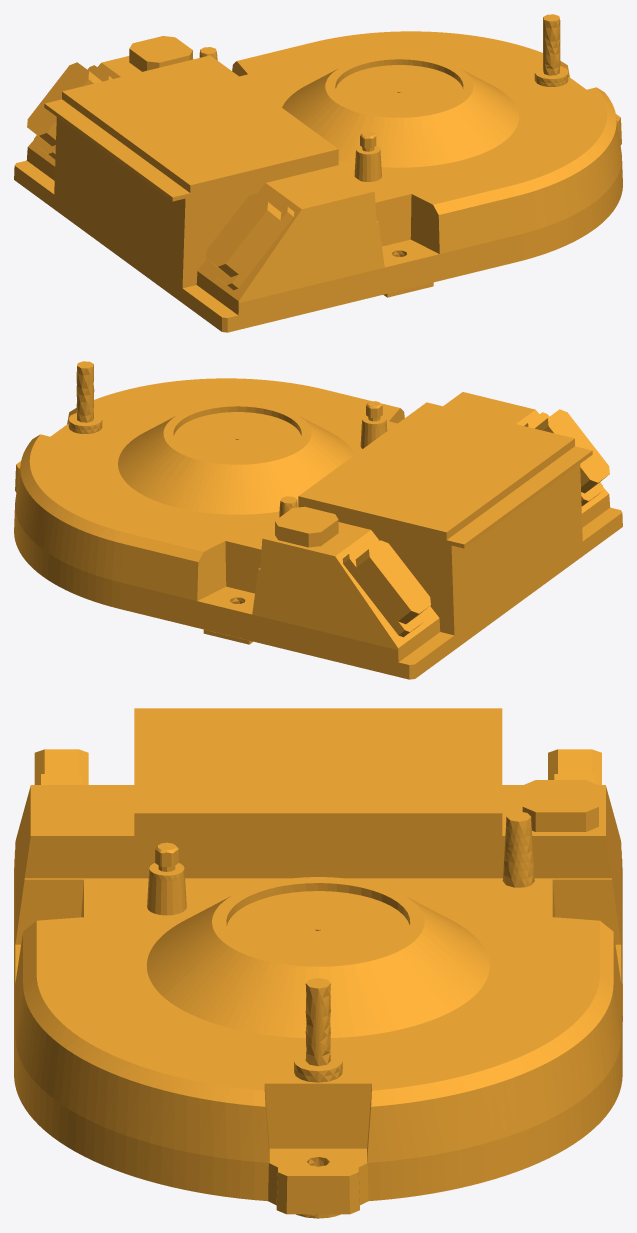
File: ABBIRB1660IDLink0.dae
3 views of the same model, one above another, from view 1: azimuth 30°, elevation 25°; view 2: azimuth 150°, elevation 25°; view 3: azimuth 270°, elevation 25° (orthographic). The views are drawn at different scales.
Parts seen in each view (by area): view 1: IRB1660IDLink1; view 2: IRB1660IDLink1; view 3: IRB1660IDLink1.
Part boxes in pixels (<box>): IRB1660IDLink1: <box>14,14,622,332</box>; IRB1660IDLink1: <box>14,361,622,679</box>; IRB1660IDLink1: <box>14,708,622,1218</box>.
Bounding box in the file's own units: 0.6603 × 0.4833 × 0.171.
